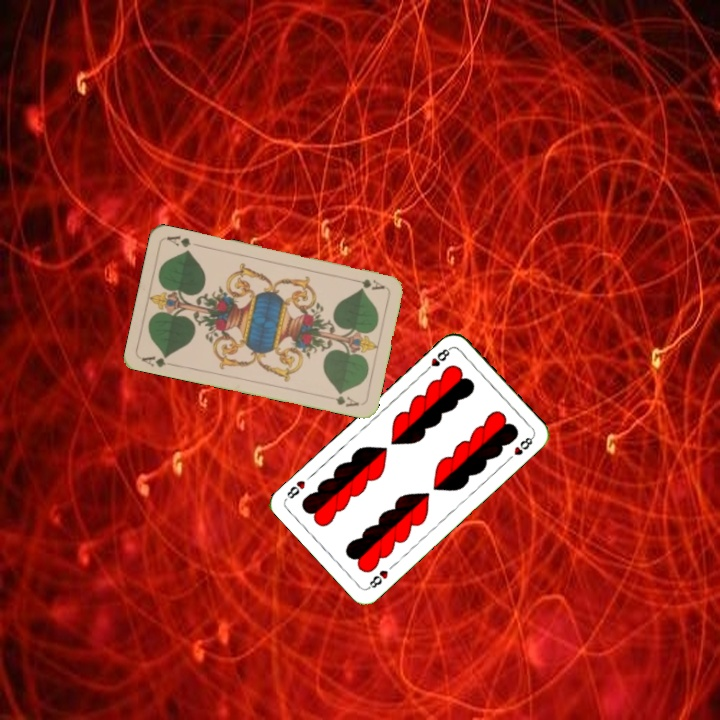GA: (138, 351, 178, 370), (348, 275, 387, 293)
H8: (421, 343, 454, 375), (364, 566, 391, 592)
